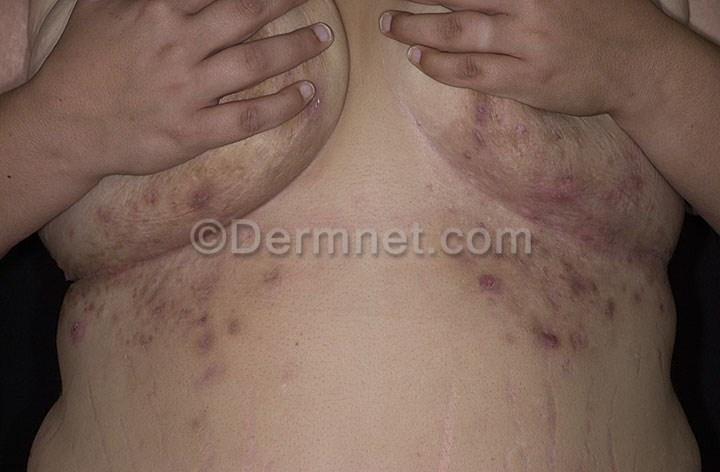Acne: (471, 92, 644, 231), (76, 233, 227, 381), (466, 224, 622, 367), (77, 158, 236, 272)
